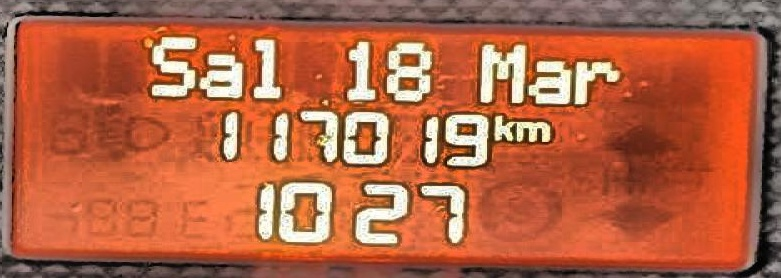0: (277, 178, 333, 245), (340, 108, 388, 165)
1: (345, 37, 376, 103), (215, 105, 240, 163), (267, 107, 292, 162), (255, 178, 275, 242), (418, 111, 440, 167)
2: (352, 179, 408, 246)
7: (417, 180, 467, 244), (295, 107, 338, 162)
8: (385, 38, 431, 103)
9: (443, 109, 487, 166)
X: (147, 34, 197, 98), (475, 39, 523, 104), (196, 48, 245, 99), (573, 56, 622, 106), (248, 34, 285, 99), (525, 57, 571, 106), (513, 117, 552, 142), (492, 109, 513, 140)
